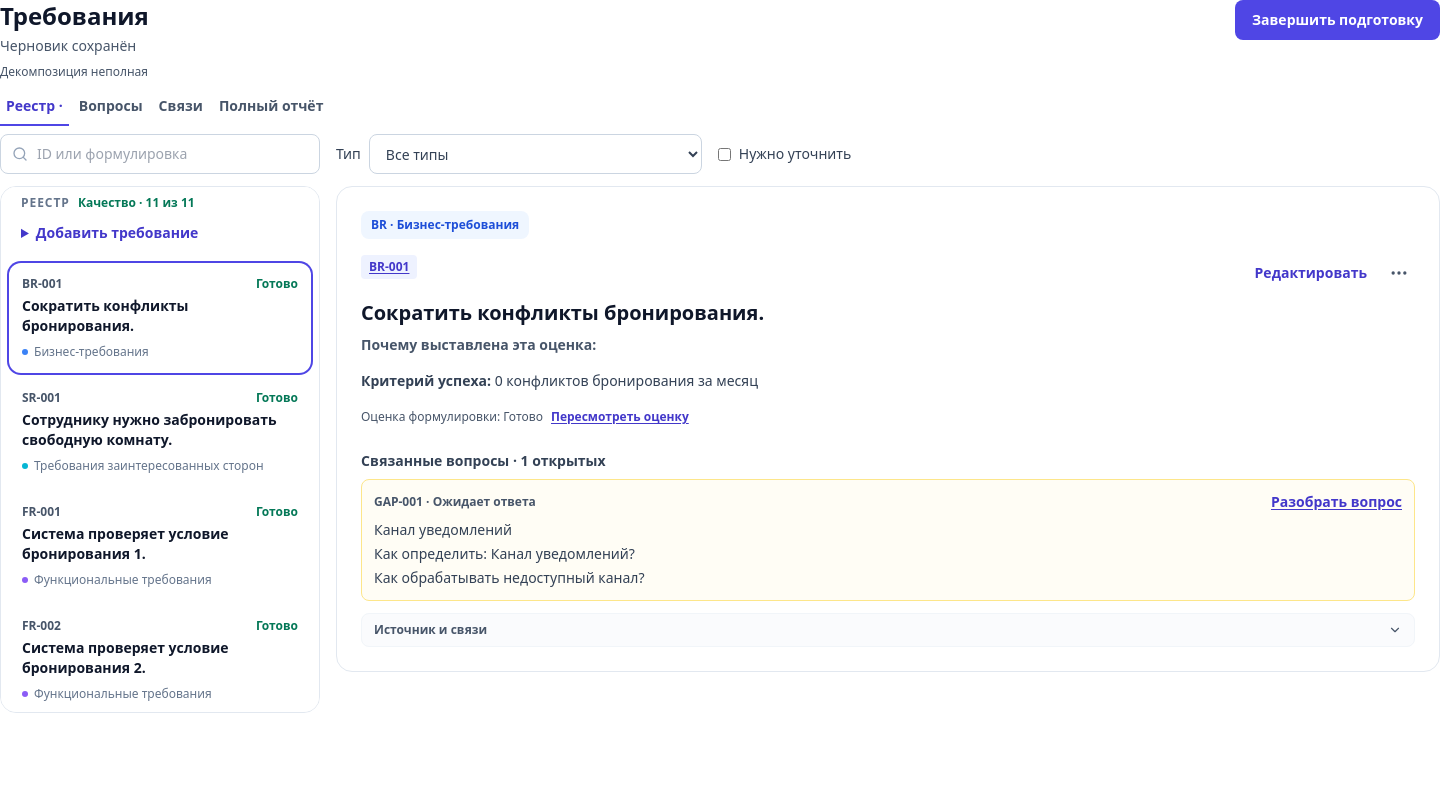
Test case: global validation reveals an invalid hidden NFR inside the current question workspace
Step 1. Select "Нефункциональные требования · 1" in the dropdown named "Тип требований" → (535, 154), box [369,134,702,174]
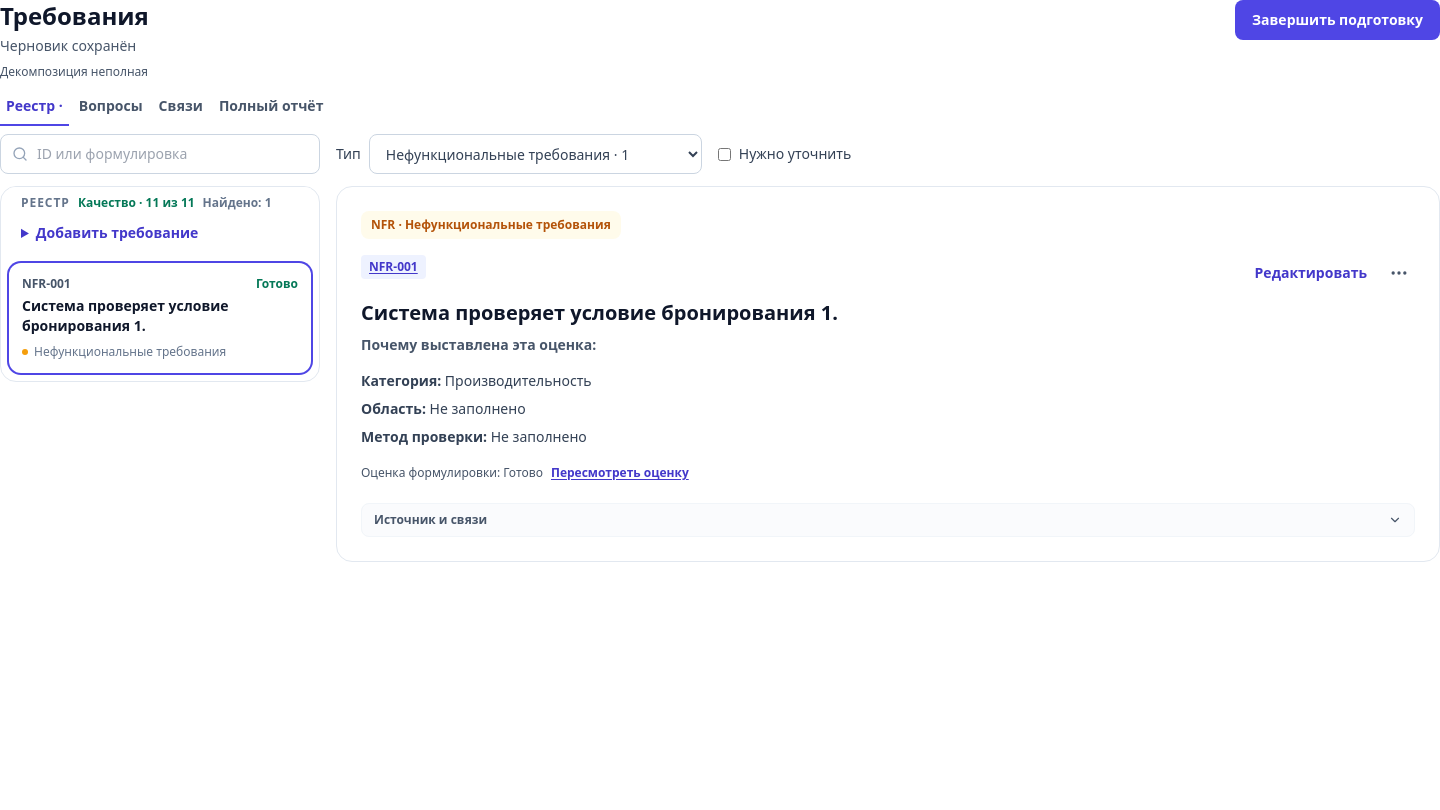
Step 2. Click the button "Редактировать" → (1311, 273), box [1243,255,1379,291]
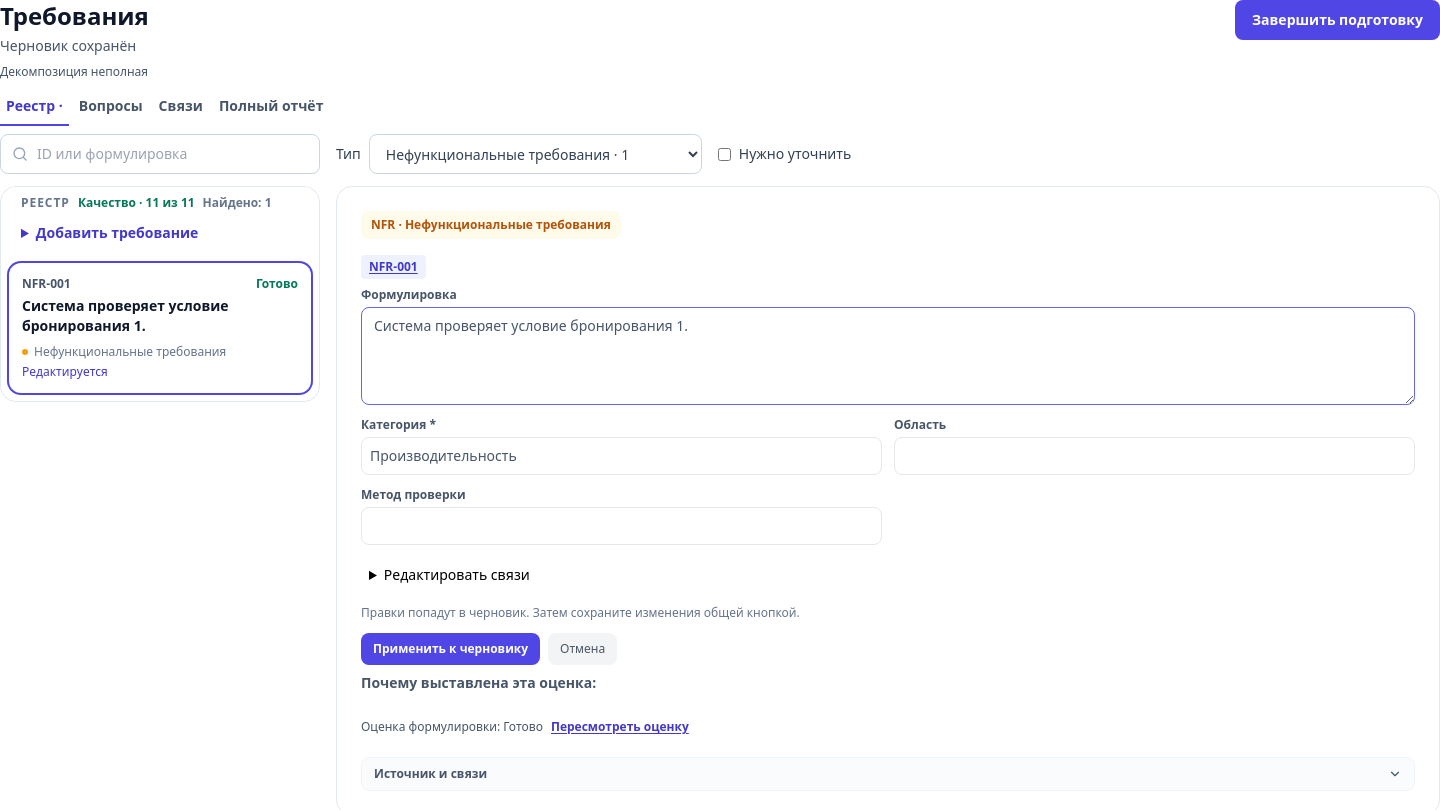
Step 3. Clear the field named "Категория NFR-001" → (622, 456), box [361,437,882,475]
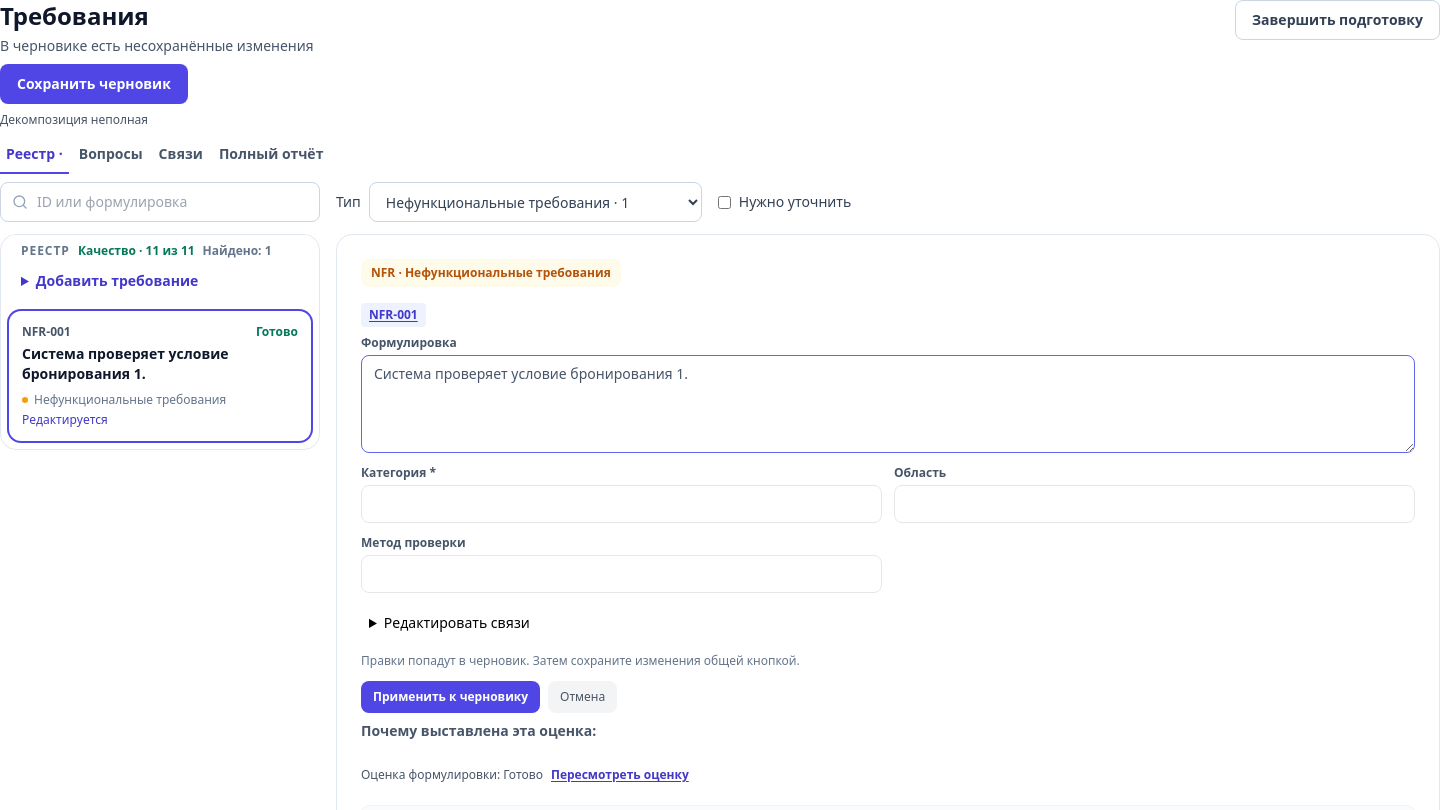
Step 4. Click the button "Вопросы" → (111, 155), box [73,136,149,174]
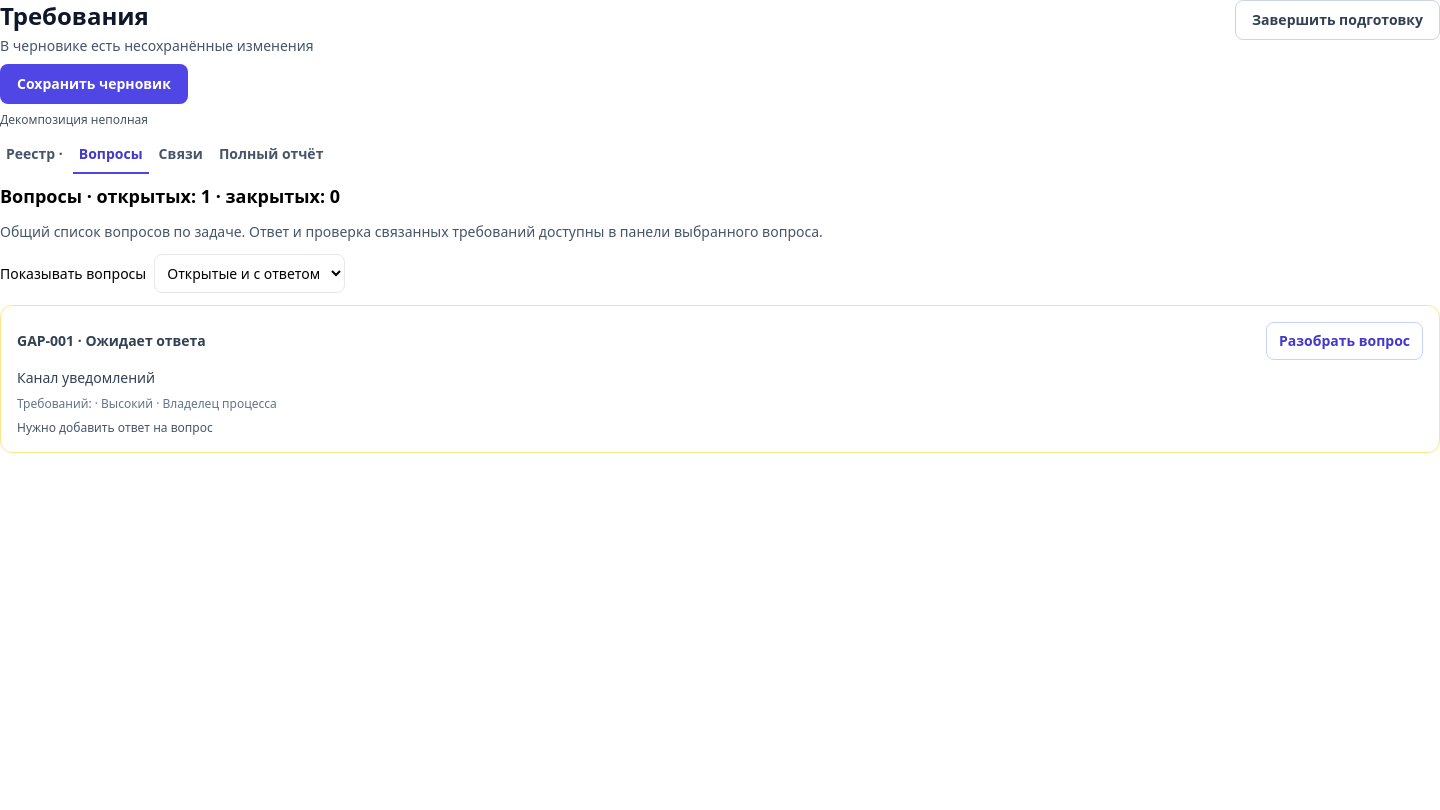
Step 5. Click the button "Разобрать вопрос" → (1344, 341), box [1266,322,1423,360]
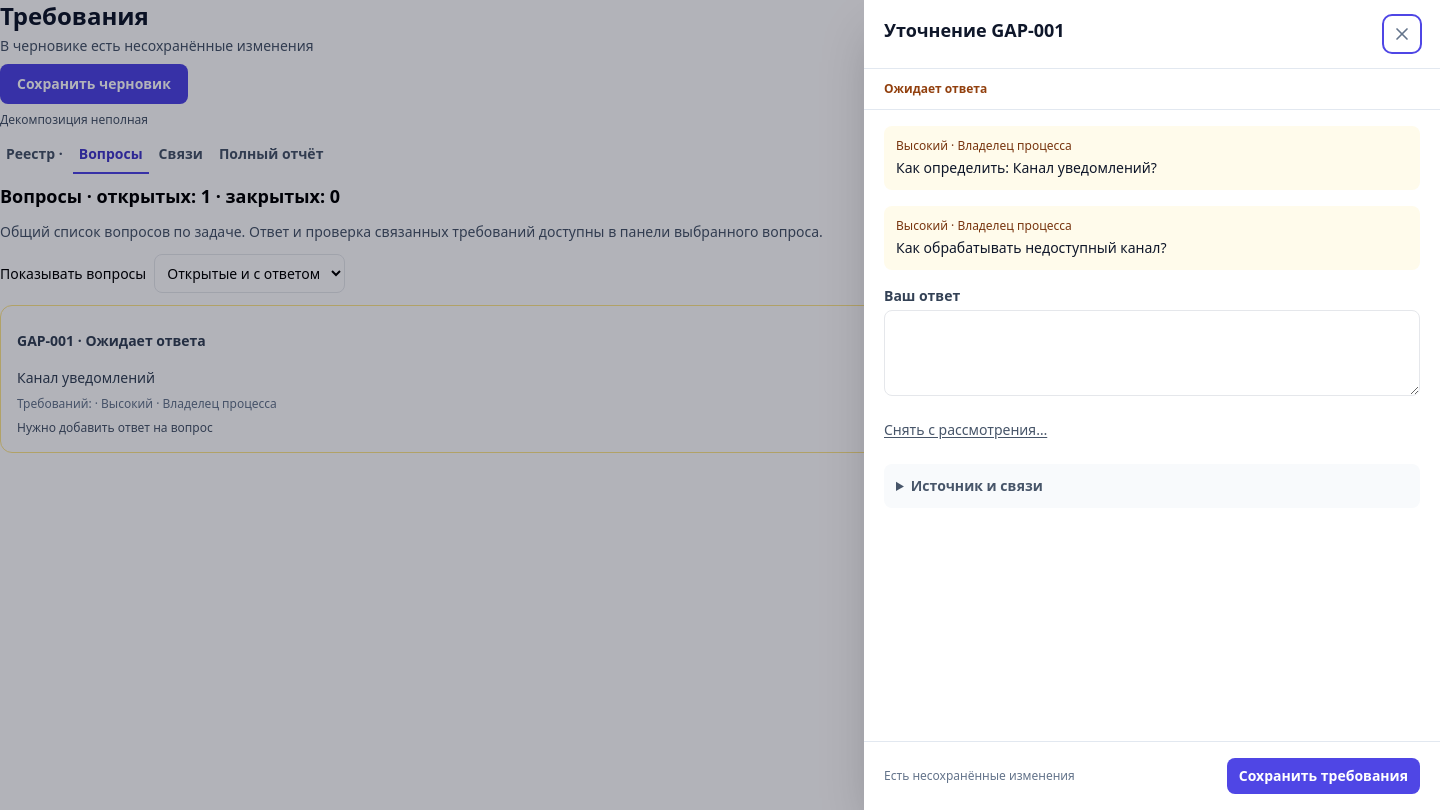
Step 6. Click the button "Сохранить требования" → (1323, 776), box [1227,758,1420,794]
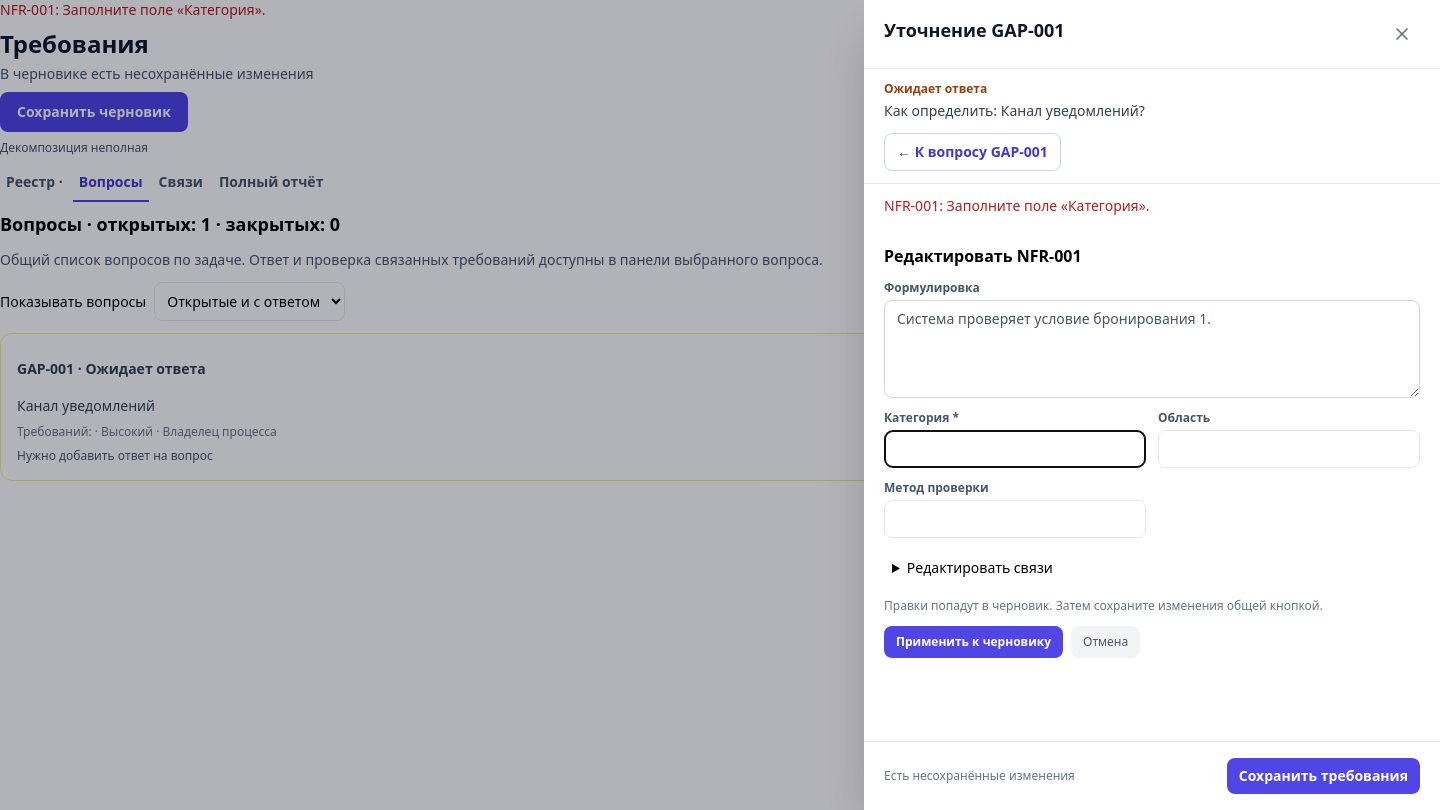
Expected: the message "NFR-001: Заполните поле «Категория»." is shown, [884,196,1150,215]
